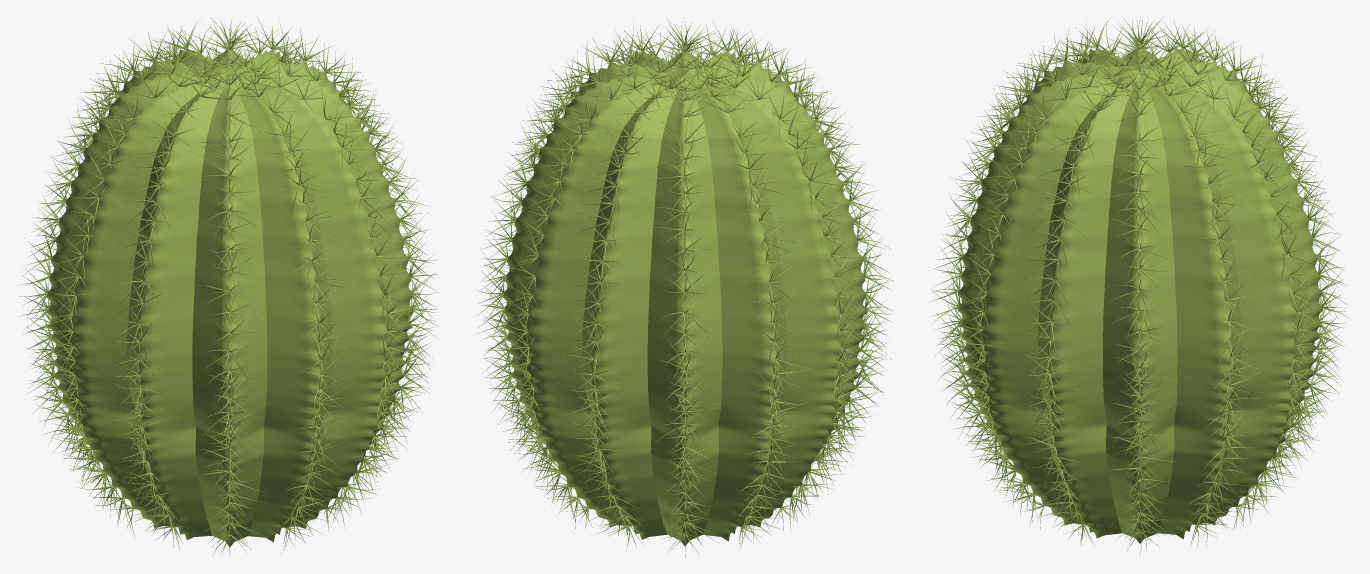
File: cactus_2.fbx
The picture shows the model from 3 angles, left to right: view 1: azimuth 30°, elevation 25°; view 2: azimuth 150°, elevation 25°; view 3: azimuth 270°, elevation 25°; orthographic projection.
Visible parts, largest first — view 1: Succulent_Parodia-magnifica_D_spring-summer; view 2: Succulent_Parodia-magnifica_D_spring-summer; view 3: Succulent_Parodia-magnifica_D_spring-summer.
Part boxes in pixels (<box>): Succulent_Parodia-magnifica_D_spring-summer: <box>18,17,439,556</box>; Succulent_Parodia-magnifica_D_spring-summer: <box>477,18,893,557</box>; Succulent_Parodia-magnifica_D_spring-summer: <box>930,15,1350,555</box>.
Size of the model in its own units: 30.46 by 36.86 by 30.4.
